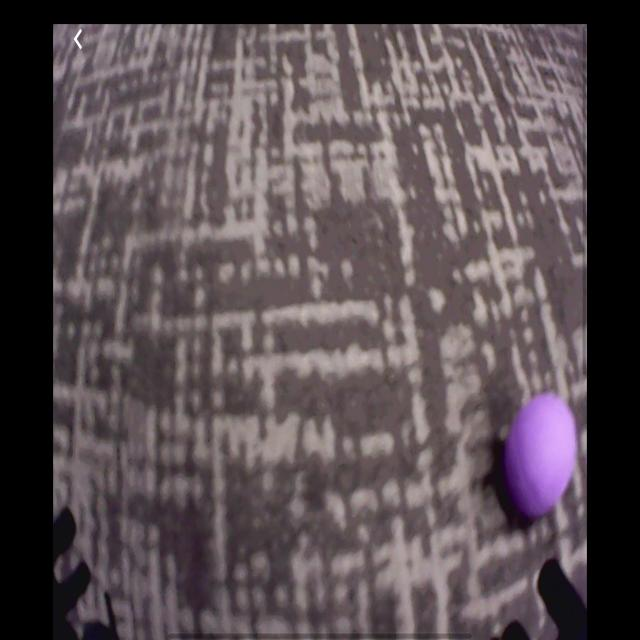ball: (503, 395, 580, 517)
